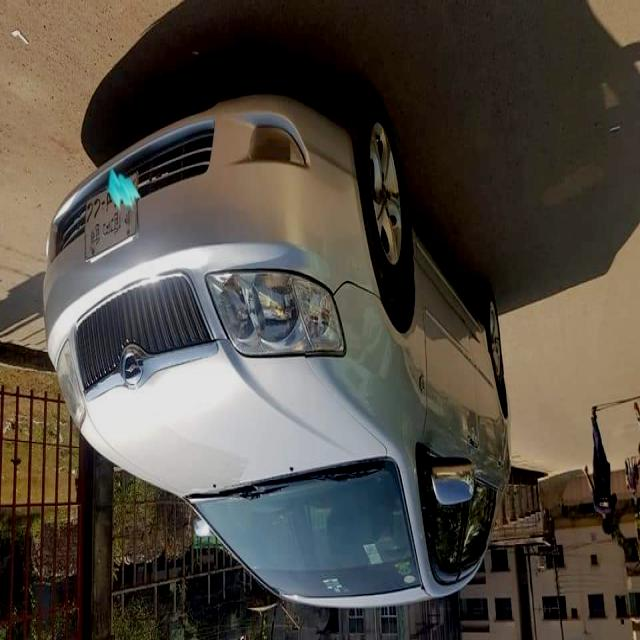silver: (39, 80, 524, 630)
